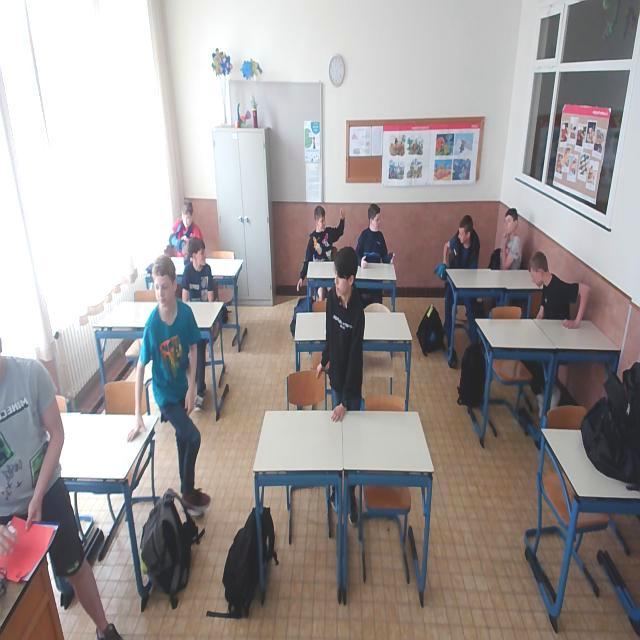Looking away: (526, 253, 560, 288), (177, 199, 200, 238), (366, 201, 387, 241), (499, 206, 523, 241), (456, 217, 480, 250), (190, 240, 212, 273)
Looking forward: (150, 256, 189, 321), (326, 249, 366, 304)
Raising hand: (288, 204, 348, 288)
